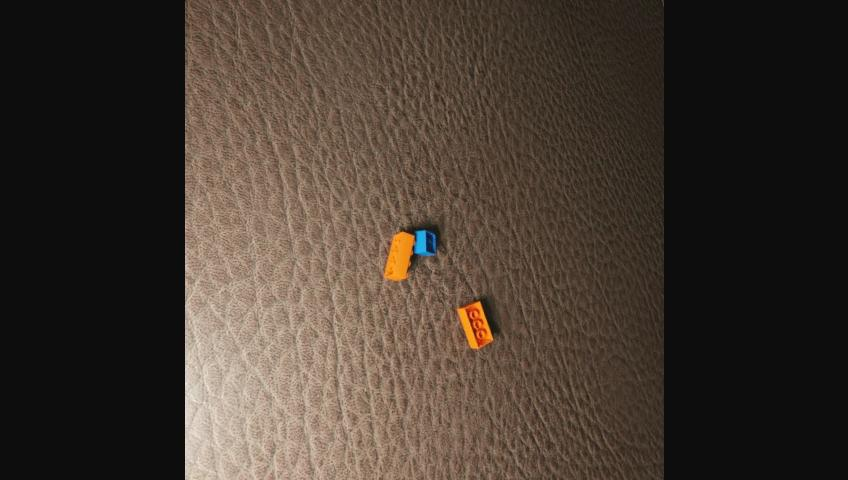2x2_blue: (412, 230, 436, 254)
4x2_orange: (457, 301, 493, 347), (384, 231, 415, 279)
